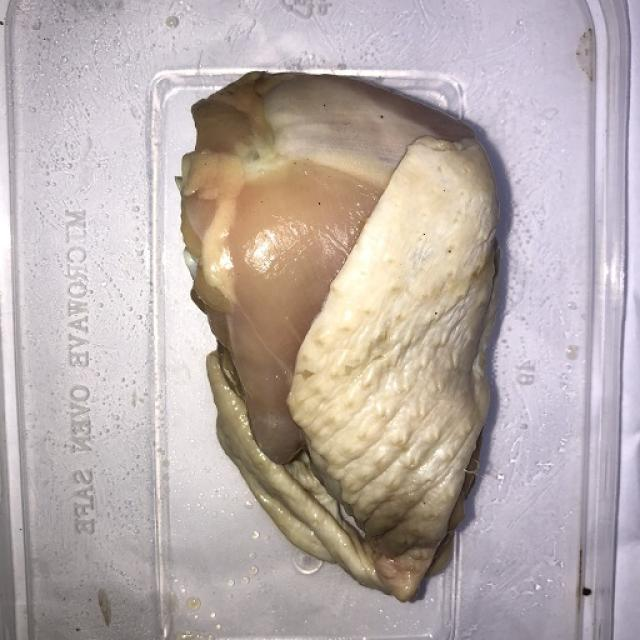chicken: (175, 70, 501, 602)
